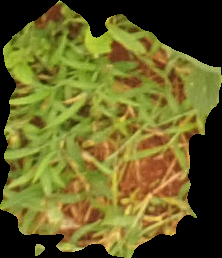grass: (1, 1, 221, 257)
